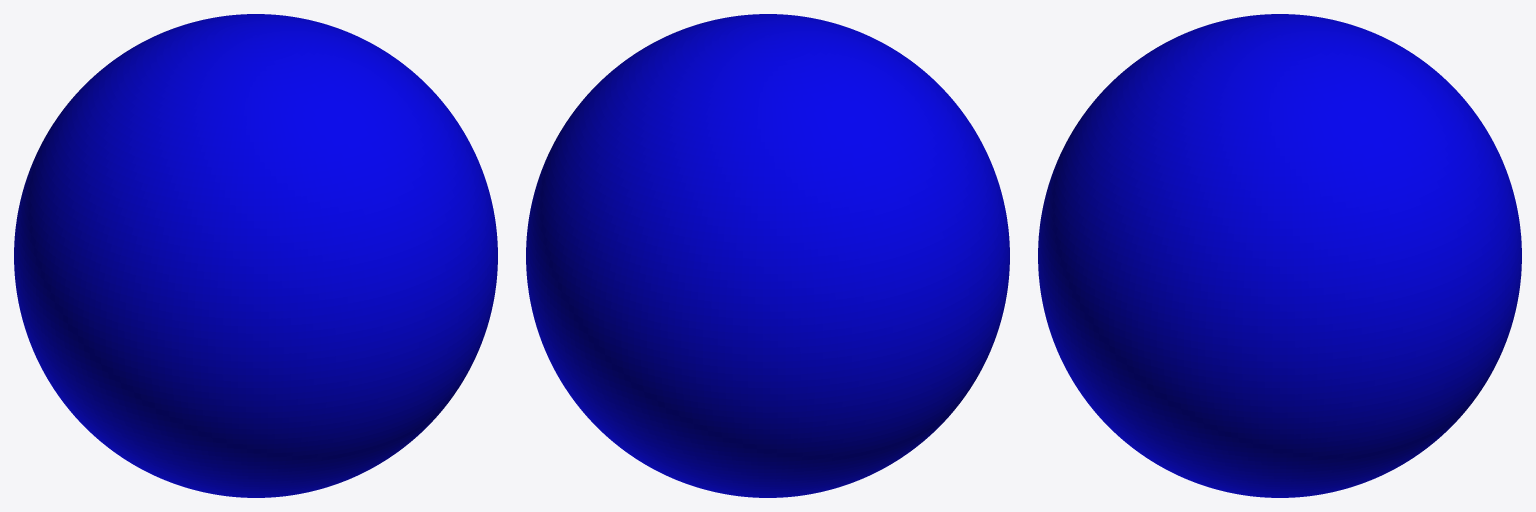
Rendered from sphereBlue.dae.
3 renders of one model, left to right at view 1: azimuth 30°, elevation 25°; view 2: azimuth 150°, elevation 25°; view 3: azimuth 270°, elevation 25°, orthographic.
Parts seen in each view (by area): view 1: Sphere; view 2: Sphere; view 3: Sphere.
Part boxes in pixels (box(x1,y1,x2,y2)): Sphere: box(14, 14, 497, 497); Sphere: box(526, 14, 1009, 497); Sphere: box(1038, 14, 1521, 497).
Size of the model in its own units: 0.0635 by 0.0635 by 0.0635.
